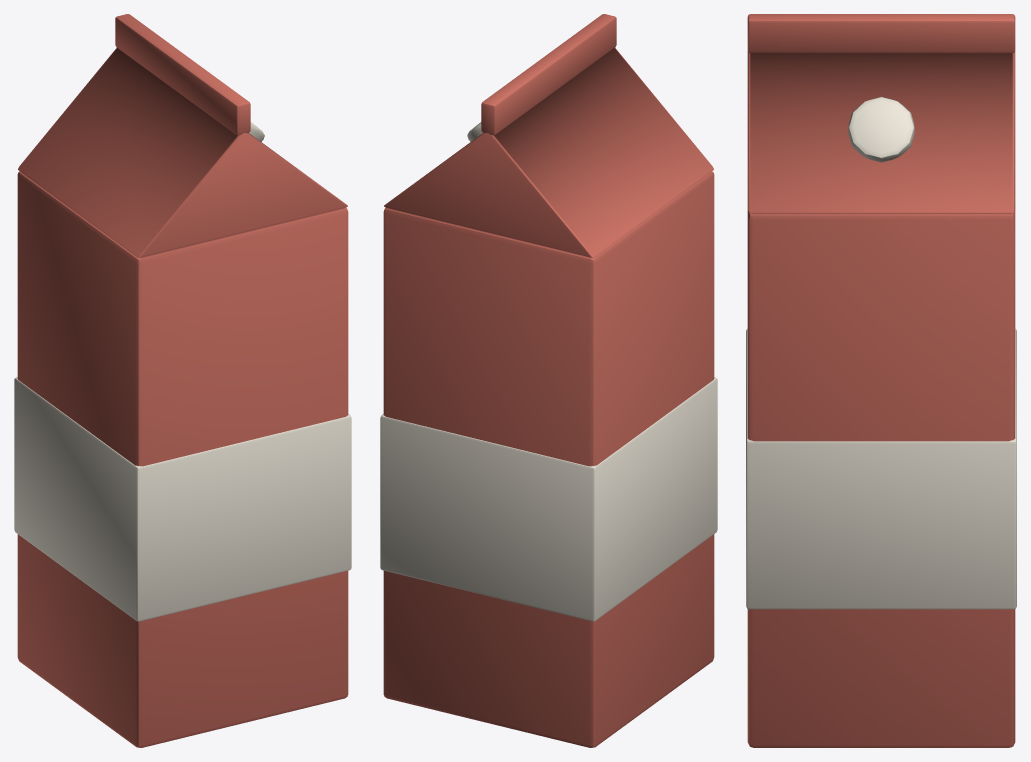
The model's file is nd_milk.glb.
3 views of the same model, side by side, from view 1: azimuth 30°, elevation 25°; view 2: azimuth 150°, elevation 25°; view 3: azimuth 270°, elevation 25° (orthographic). The views are drawn at different scales.
Visible parts, largest first — view 1: PART; view 2: PART; view 3: PART.
Part boxes in pixels (bbox=[...]): PART: bbox=[14, 14, 351, 747]; PART: bbox=[380, 14, 717, 747]; PART: bbox=[746, 14, 1016, 747].
Bounding box in the file's own units: 0.087 × 0.24 × 0.087.
